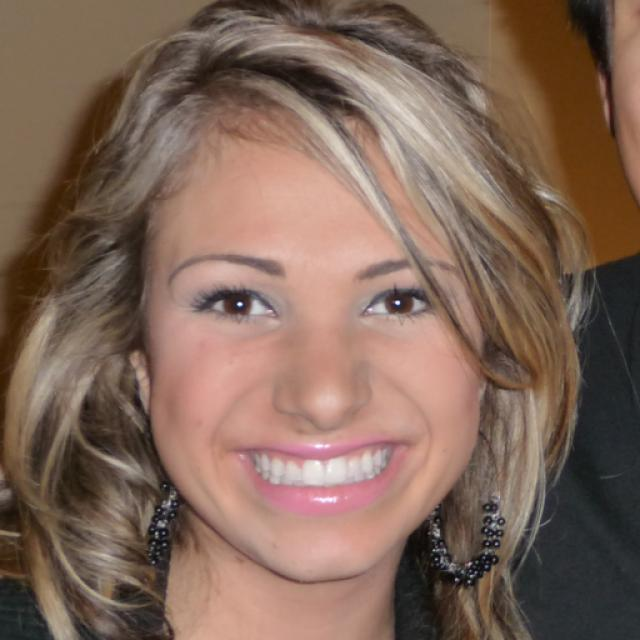happy: (148, 105, 484, 584)
